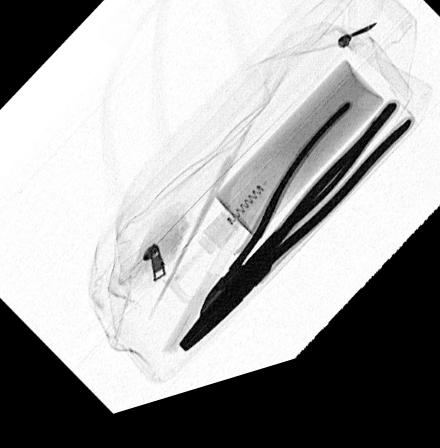Pliers: (174, 140, 415, 365), (196, 119, 384, 334)
